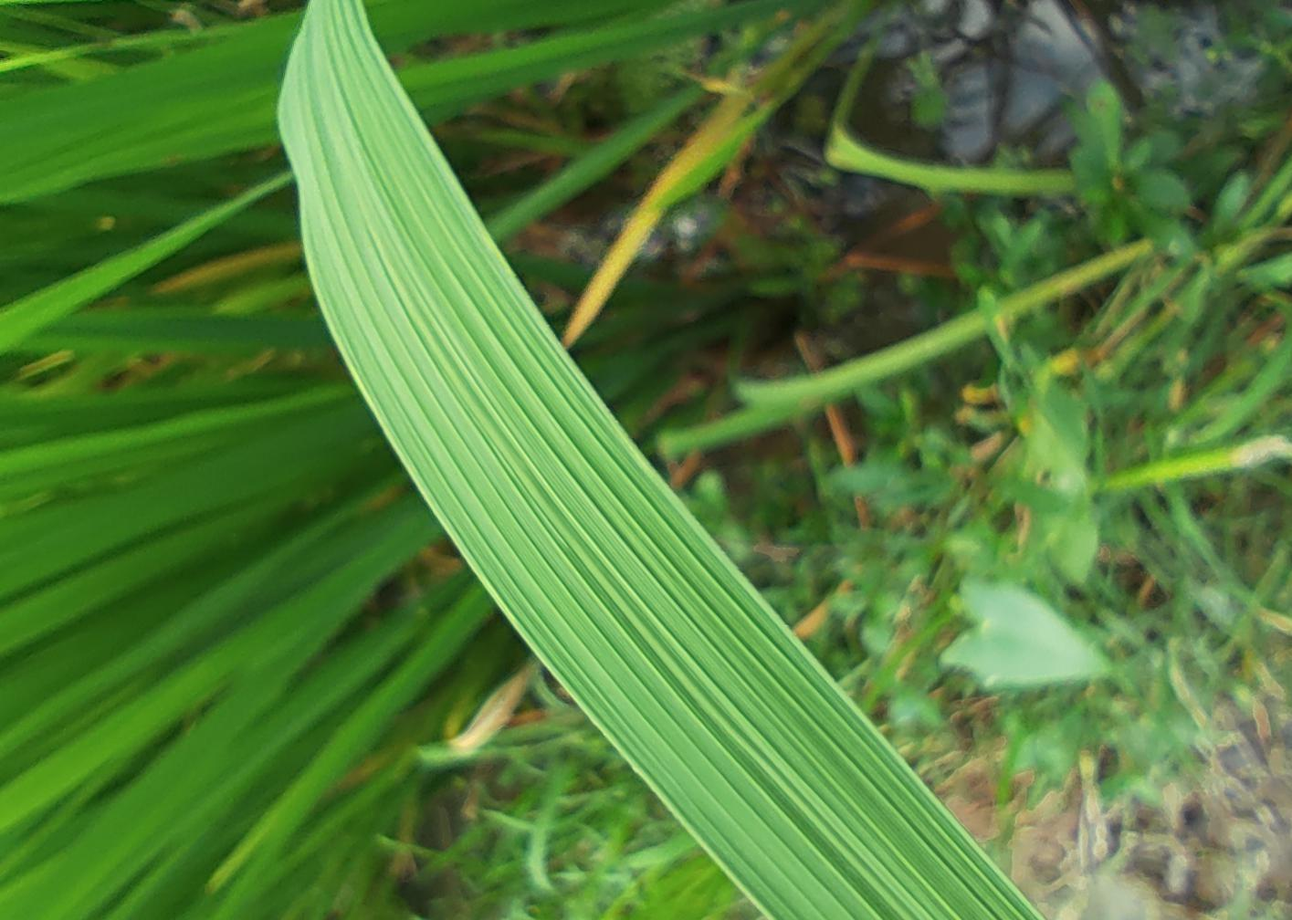Healthy: (278, 0, 1035, 919)
